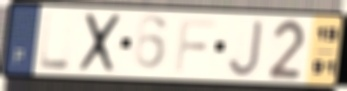2: (268, 17, 309, 82)
6: (133, 11, 171, 77)
F: (173, 17, 218, 75)
J: (226, 18, 265, 79)
L: (38, 10, 72, 72)
X: (76, 11, 124, 75)
